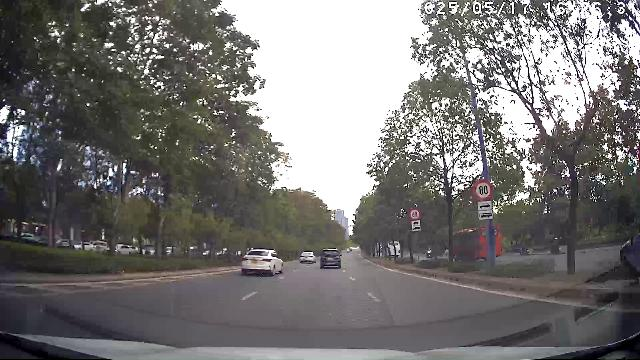127-toc-do-toi-da-60: (409, 208, 421, 220)
127-toc-do-toi-da-80: (473, 179, 494, 201)
